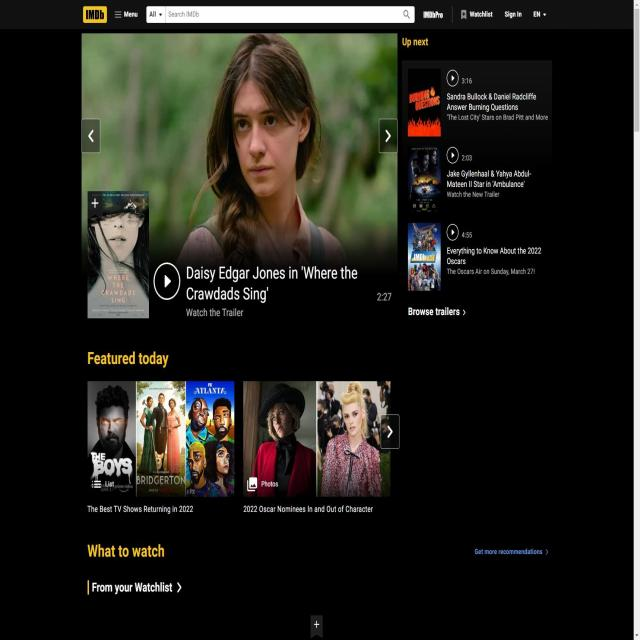button: (400, 7, 414, 22)
input: (166, 6, 399, 23)
select: (147, 6, 165, 23), (531, 8, 548, 22)
